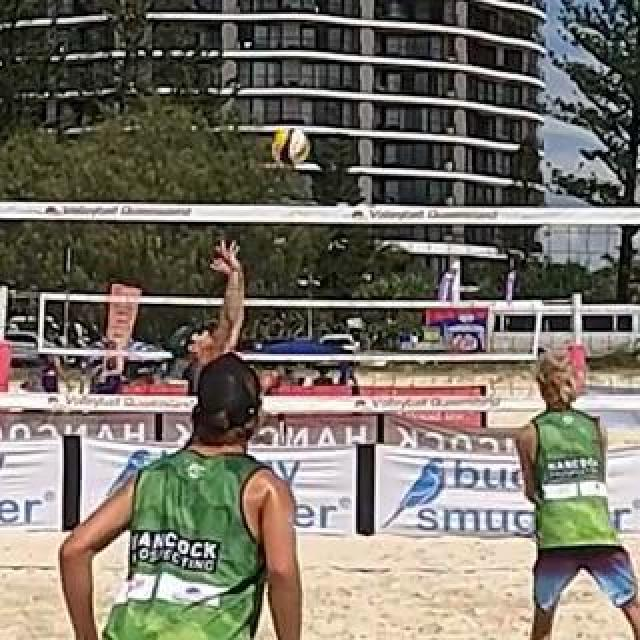volleyball: (272, 127, 310, 163)
